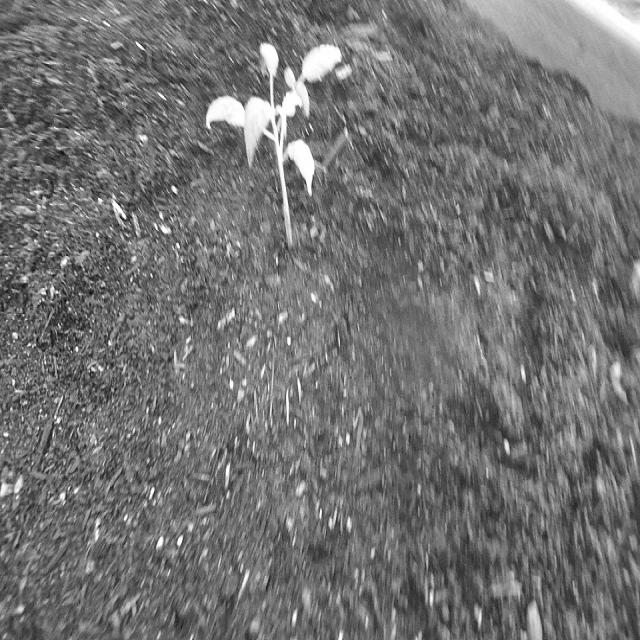Healthy: (204, 38, 344, 264)
